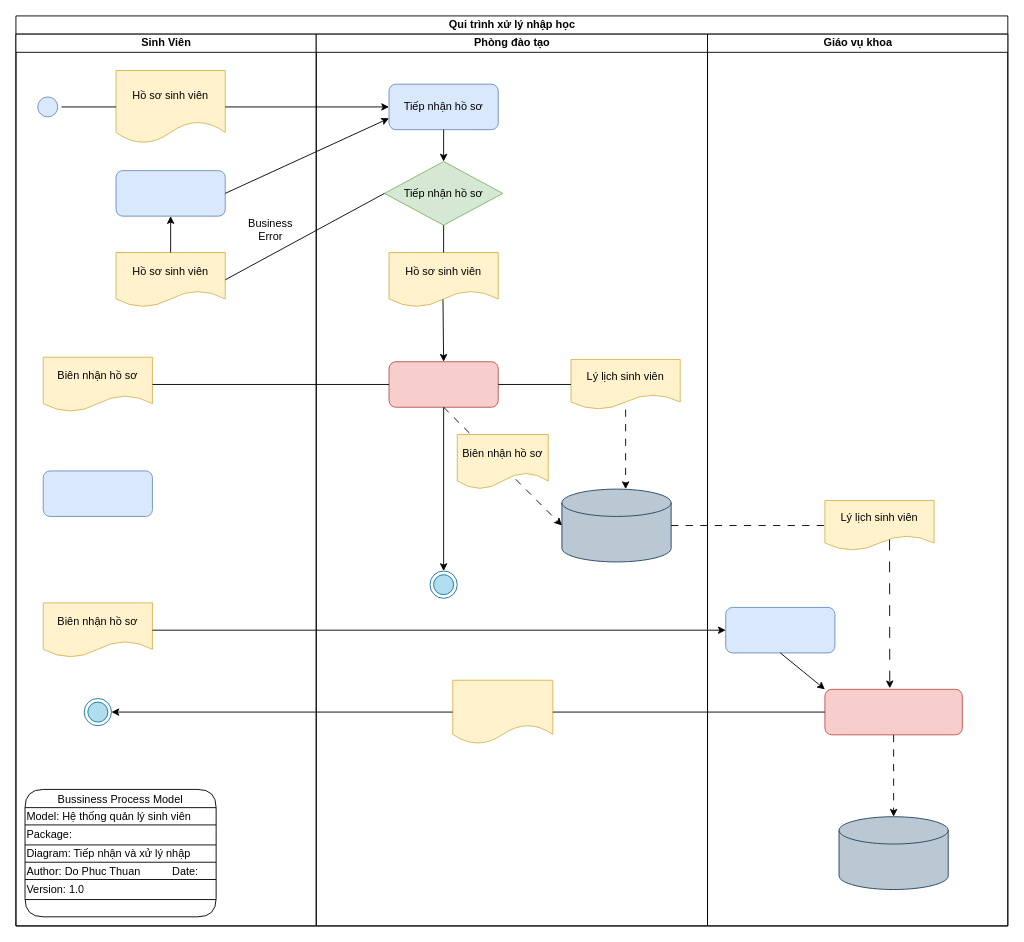
The diagram is 1024 pixels wide and 942 high, and some of its shapes have lost their labels. The shapes that lost their labels are listed below. From the top down, each one's centre as x and y in pixels, then its label:
(170,193): Cập nhật hồ sơ
(443,384): Nhập hồ sơ
(97,493): Nộp giấy vào lớp
(616,525): CSDL QLSV :1
(780,630): Tiếp nhận giấy vào lớp
(502,711): Giấy chứng nhận sinh viên
(893,711): Cập nhật danh sách lớp
(893,853): CSDL QLSV :2
